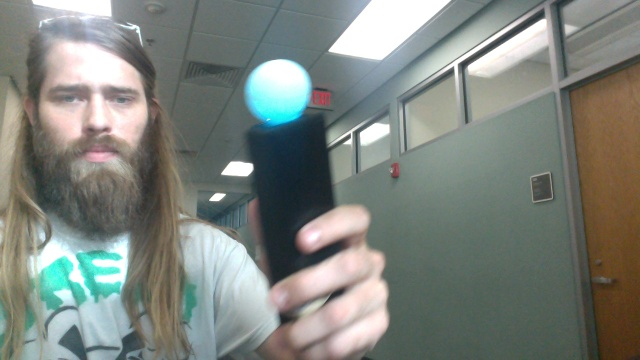wand: (245, 60, 311, 126)
